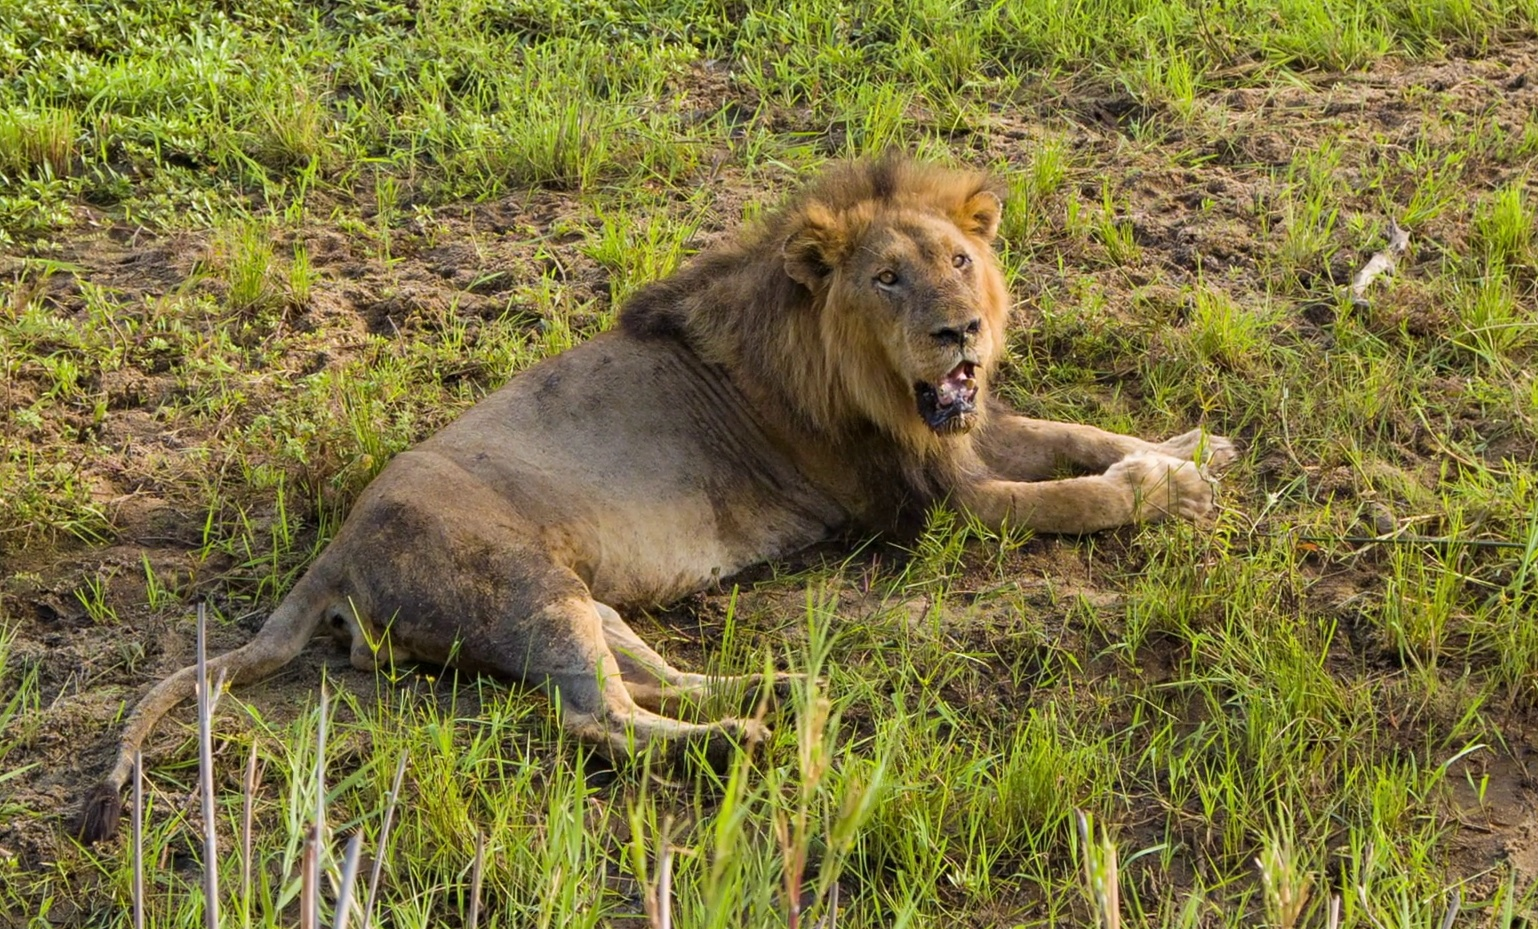lion: (69, 136, 1242, 847)
